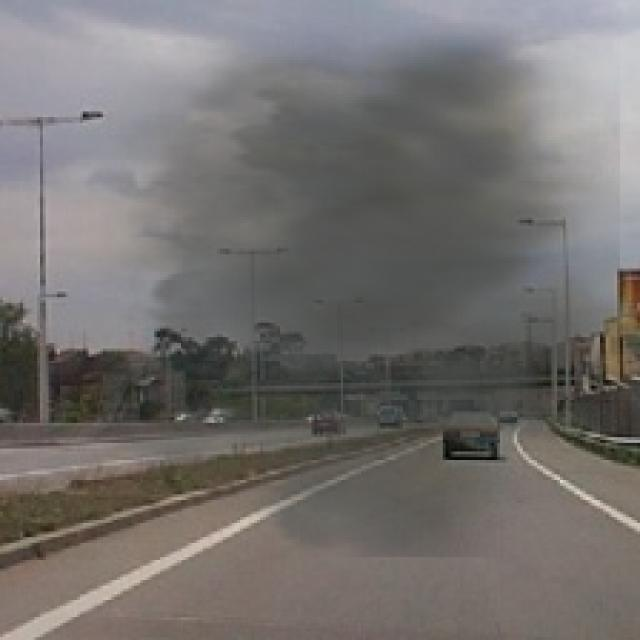Smoke: (51, 9, 620, 558)
